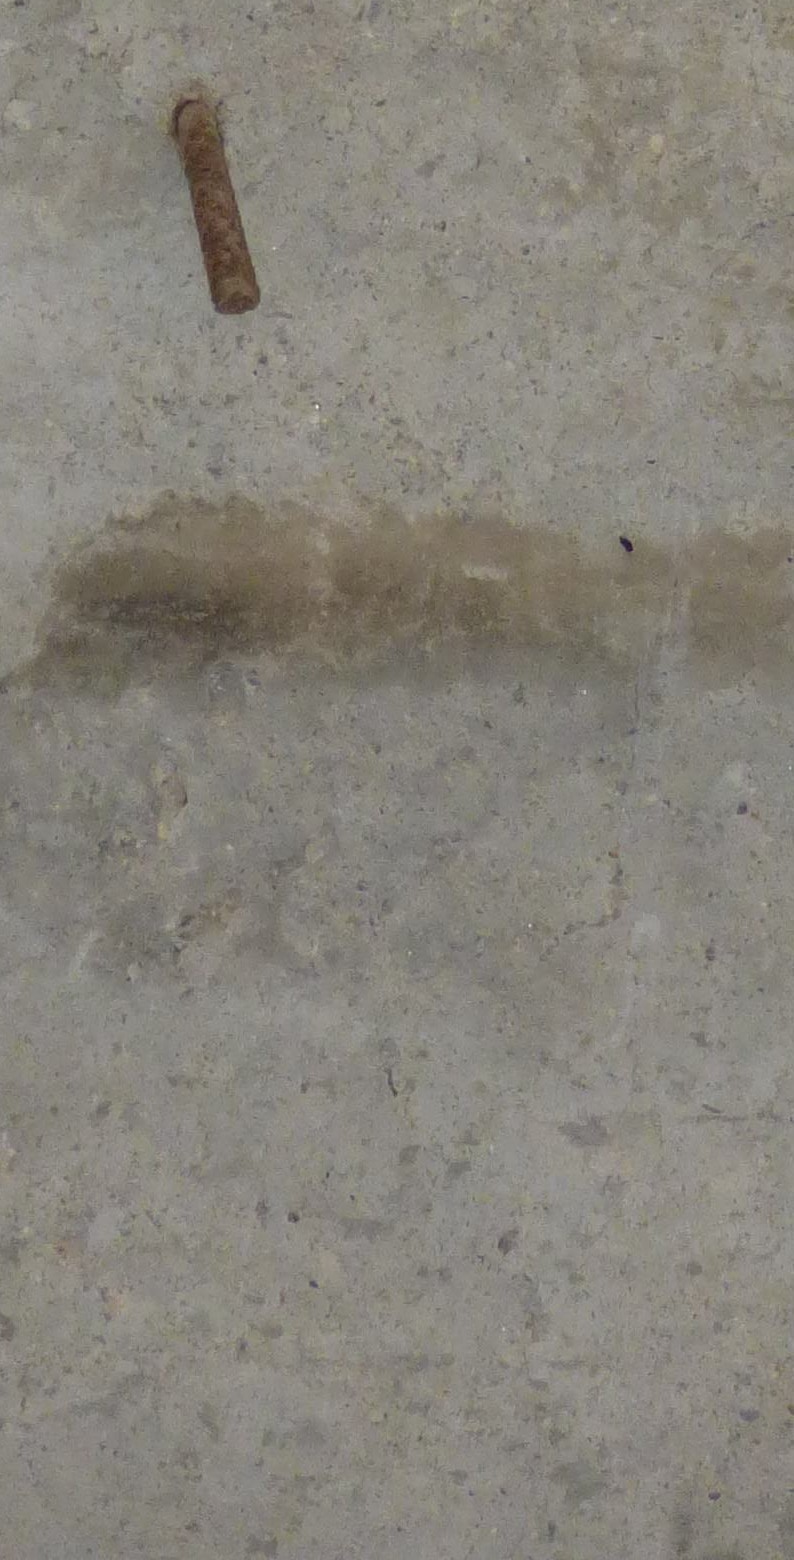Corrosion: (1, 482, 794, 711)
Exposed reinforcement: (175, 100, 261, 316)
